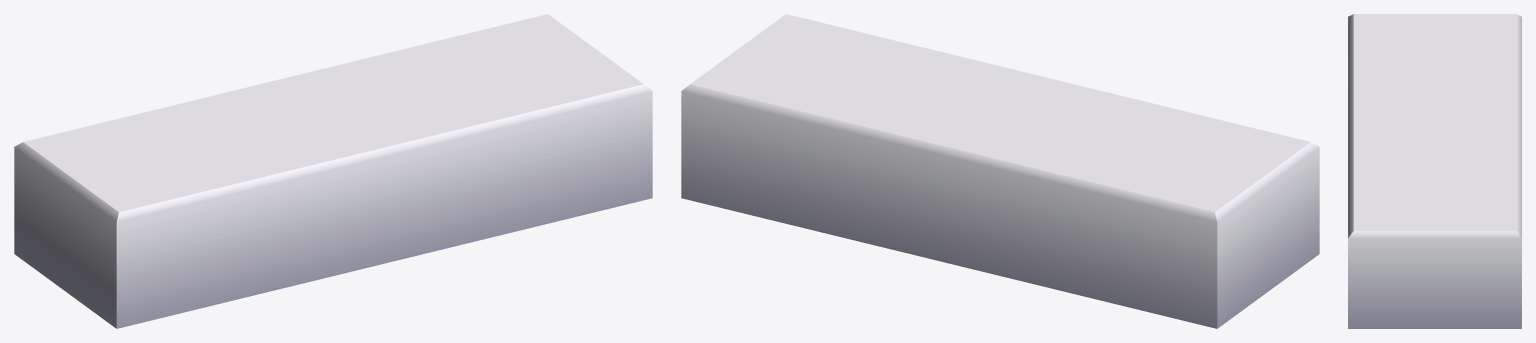
Rendered from none-hq-brick-2x6.glb.
3 renders of one model, left to right at view 1: azimuth 30°, elevation 25°; view 2: azimuth 150°, elevation 25°; view 3: azimuth 270°, elevation 25°, orthographic. The views are drawn at different scales.
Visible parts, largest first — view 1: none-hq-brick-2x6; view 2: none-hq-brick-2x6; view 3: none-hq-brick-2x6.
Part boxes in pixels (x1=…): none-hq-brick-2x6: x1=14, y1=14, x2=652, y2=328; none-hq-brick-2x6: x1=681, y1=14, x2=1319, y2=328; none-hq-brick-2x6: x1=1348, y1=14, x2=1521, y2=328.
Bounding box in the file's own units: 0.477 × 0.096 × 0.158.
Materials: 1 (1 with a texture image).
